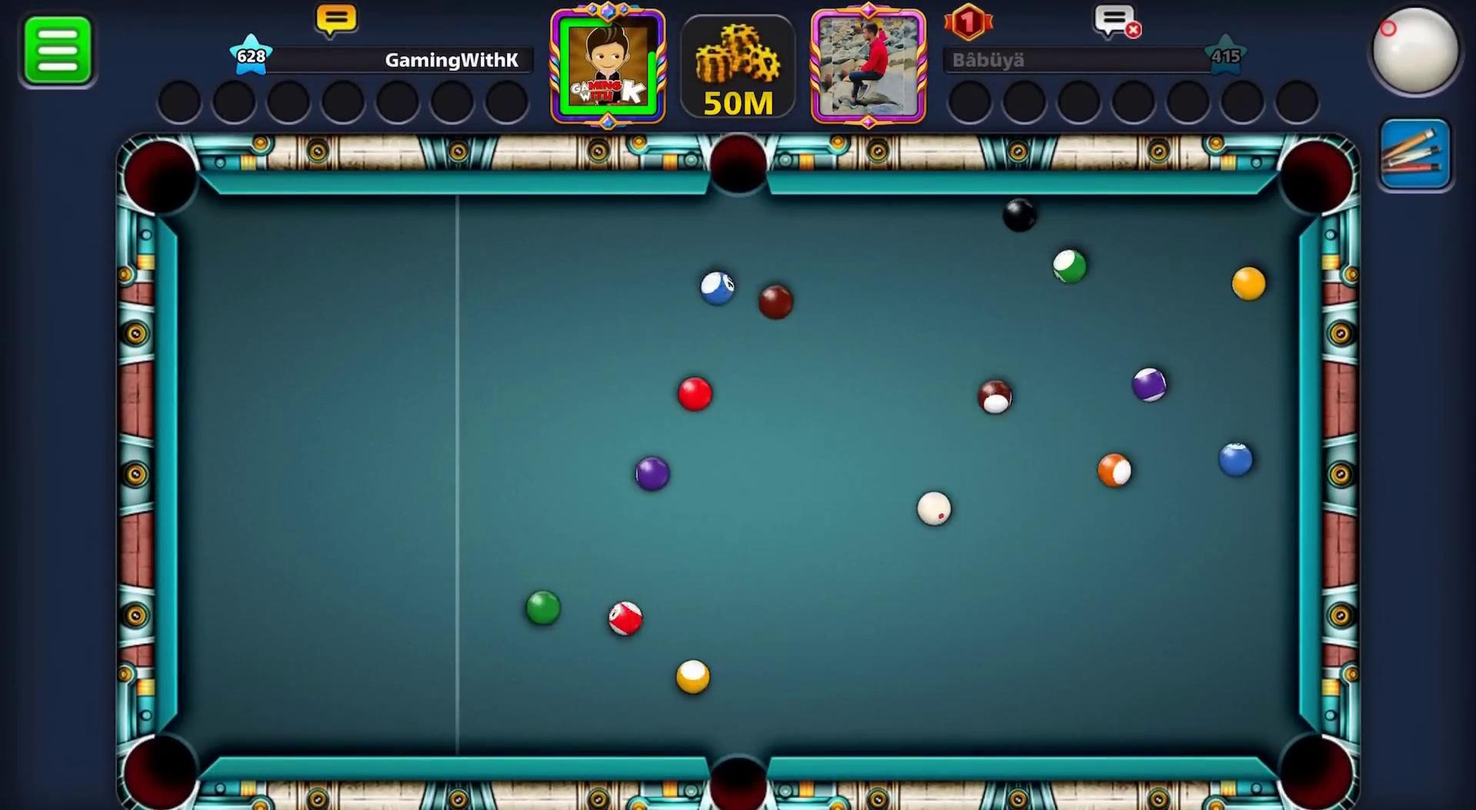Ball: (630, 456, 684, 505), (688, 261, 742, 309), (1047, 246, 1095, 299), (1089, 450, 1142, 498), (1211, 431, 1259, 481), (669, 375, 721, 419), (1229, 259, 1271, 310), (673, 658, 709, 695), (607, 601, 643, 638), (524, 592, 560, 629), (757, 285, 793, 321), (979, 378, 1015, 414), (1002, 195, 1037, 232), (1135, 368, 1170, 403)
Hole: (109, 123, 221, 233), (98, 719, 222, 810), (1259, 715, 1364, 810), (1272, 122, 1359, 226), (697, 125, 782, 219), (692, 742, 786, 810)
Play_Area: (177, 196, 1299, 757)
Spin: (1330, 0, 1476, 113)
White: (915, 488, 960, 534)
